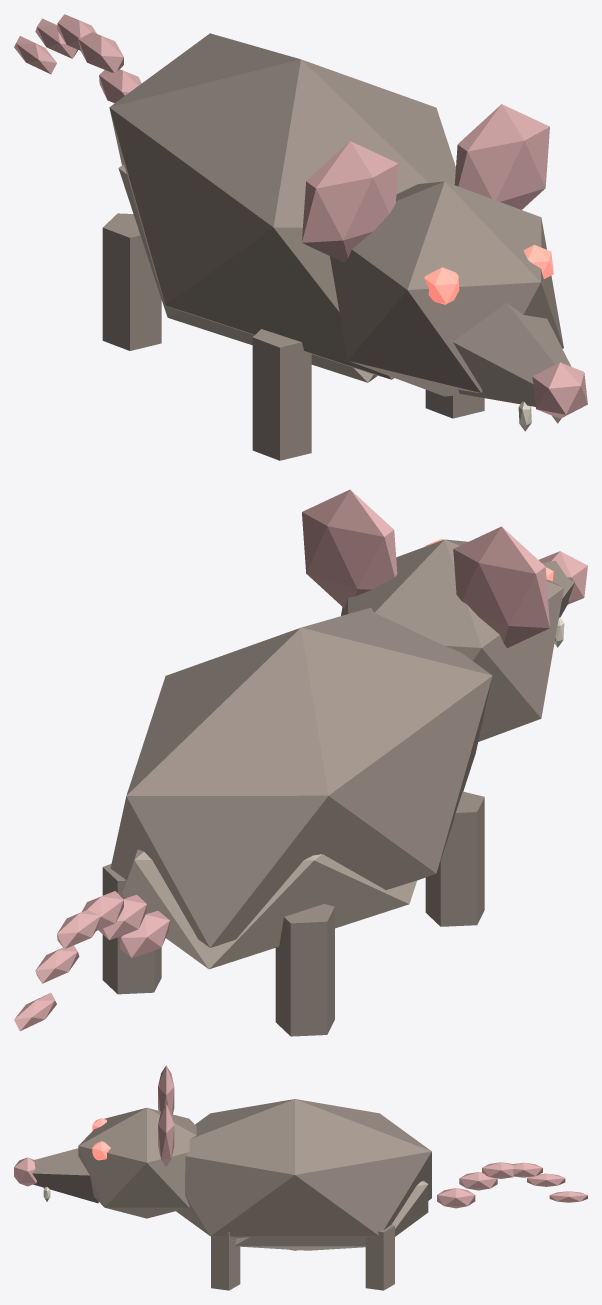
The model's file is giant_rat.glb.
3 views of the same model, one above another, from view 1: azimuth 30°, elevation 25°; view 2: azimuth 150°, elevation 25°; view 3: azimuth 270°, elevation 25° (orthographic). The views are drawn at different scales.
Visible parts, largest first — view 1: giant_rat; view 2: giant_rat; view 3: giant_rat.
Boxes of the visible parts, box(x1,y1,x2,y2) form: giant_rat: box(14, 14, 587, 460); giant_rat: box(14, 489, 587, 1036); giant_rat: box(14, 1065, 587, 1290).
Size of the model in its own units: 0.5009 by 0.61 by 1.78.
